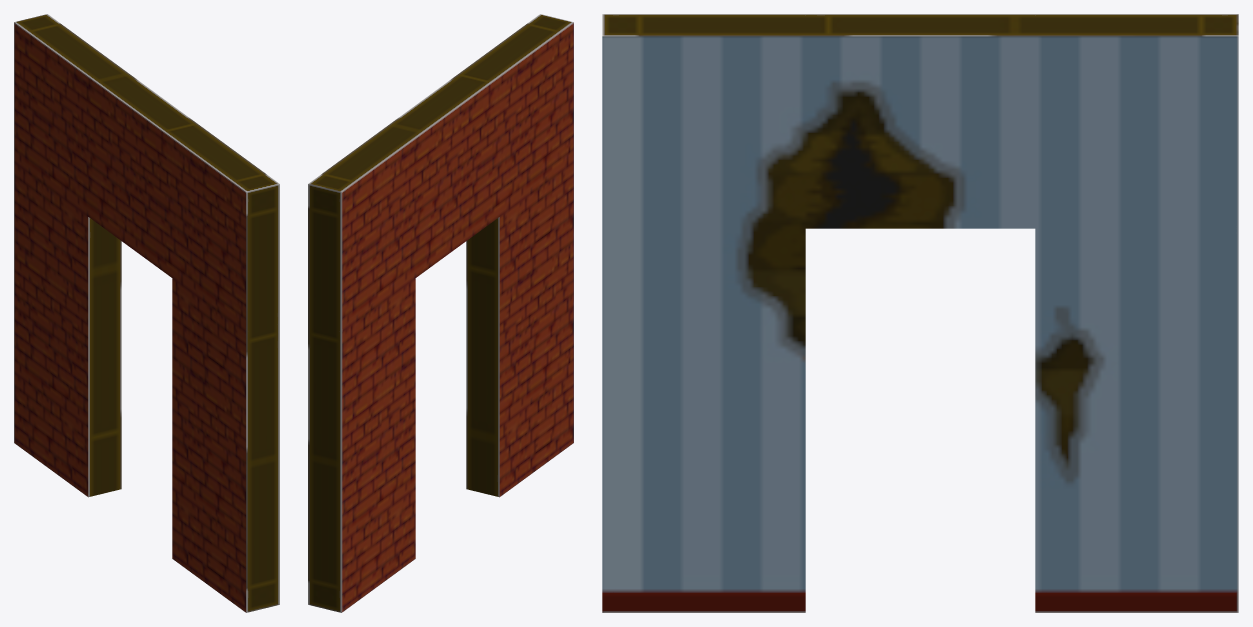
The model's file is Wallb_Door_04.fbx.
The picture shows the model from 3 angles, left to right: view 1: azimuth 30°, elevation 25°; view 2: azimuth 150°, elevation 25°; view 3: azimuth 270°, elevation 25°; orthographic projection. The views are drawn at different scales.
Parts seen in each view (by area): view 1: Wallb_Door_04; view 2: Wallb_Door_04; view 3: Wallb_Door_04.
Part boxes in pixels (x1,y1,x2,y2): Wallb_Door_04: (14, 14, 279, 612); Wallb_Door_04: (308, 14, 573, 612); Wallb_Door_04: (602, 14, 1238, 612).
Size of the model in its own units: 50 by 600 by 600.
